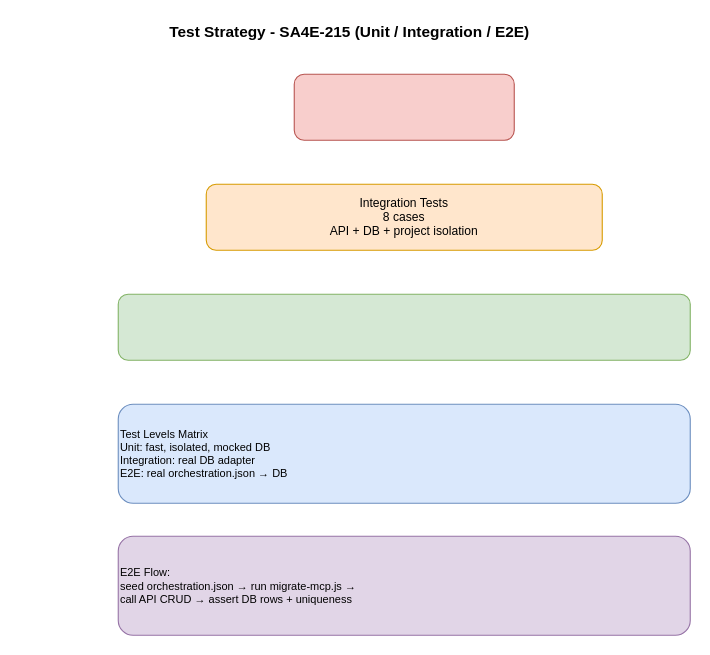
Image size: 710x655. Some labels were removed from this diagram. Each missing label, with the centre of its shape:
E2E Tests 6 cases full migration + CRUD via API: [403,106]
Unit Tests 14 cases validation, dedupe, adapters: [403,326]
